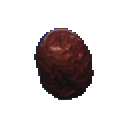gd: (24, 16, 107, 108)
